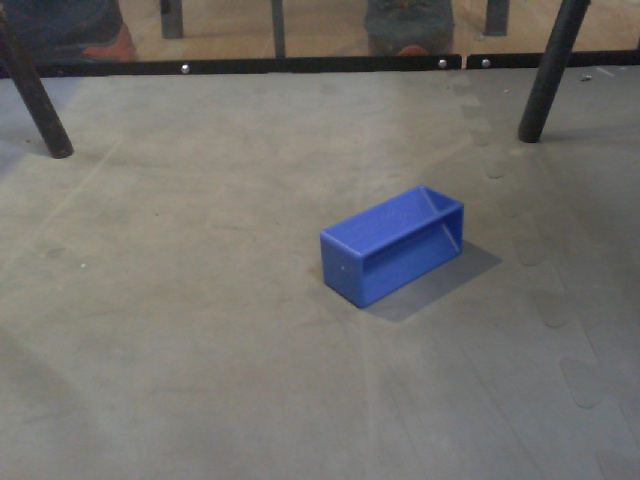BlueSample: (315, 183, 470, 314)
